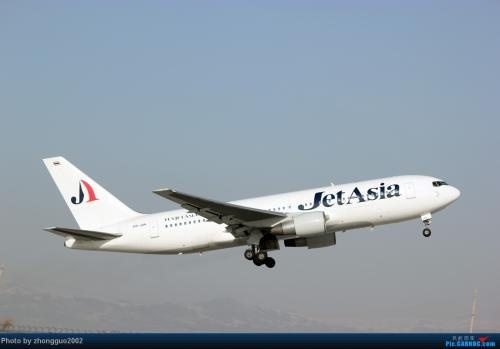airplane: (39, 150, 469, 264)
